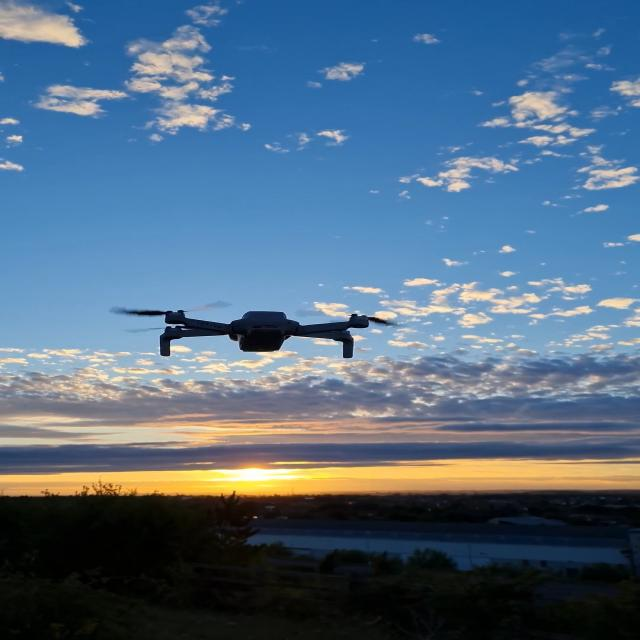Drone: (117, 308, 391, 358)
